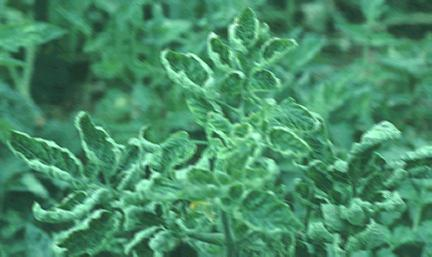Tomato leaf yellow virus: (6, 126, 97, 194), (10, 208, 129, 257), (232, 184, 314, 244), (11, 189, 120, 225), (246, 114, 318, 168), (67, 102, 112, 171), (271, 96, 331, 147), (228, 1, 263, 72), (161, 49, 220, 91), (249, 38, 316, 70)
